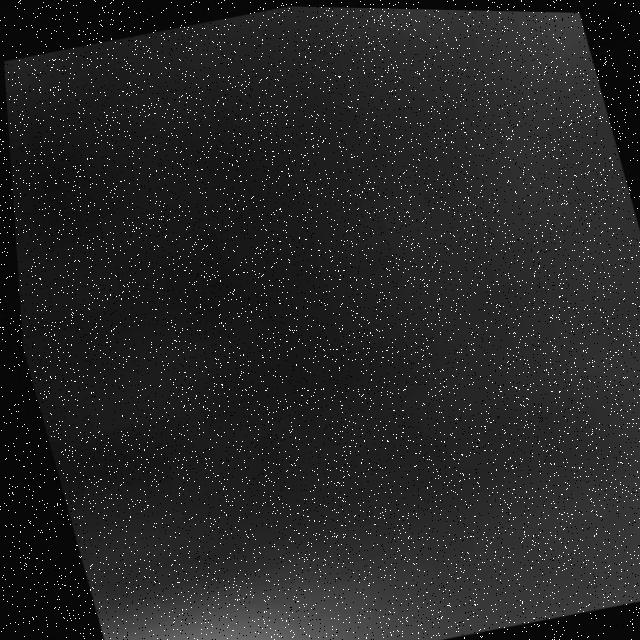person: (93, 562, 524, 640)
